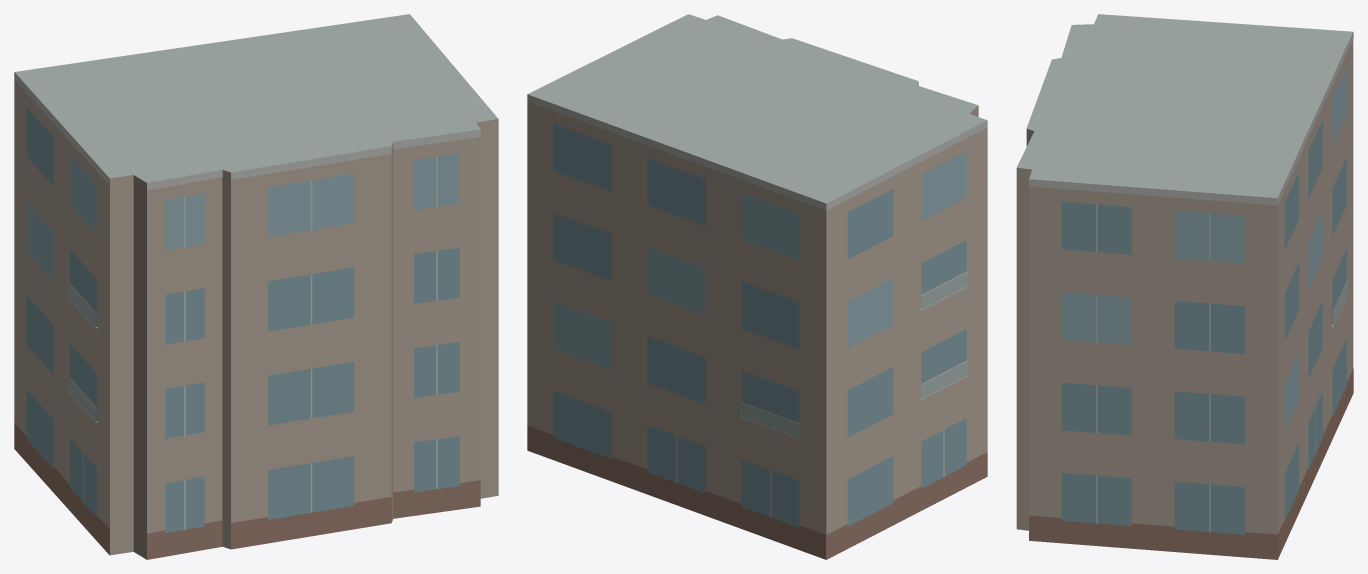
Rendered from survey-upis-32921223.glb.
3 views of the same model, side by side, from view 1: azimuth 30°, elevation 25°; view 2: azimuth 150°, elevation 25°; view 3: azimuth 270°, elevation 25° (orthographic). The views are drawn at different scales.
Visible parts, largest first — view 1: survey-upis-32921223.tmp; view 2: survey-upis-32921223.tmp; view 3: survey-upis-32921223.tmp.
Part boxes in pixels (left/top/right/bottom): survey-upis-32921223.tmp: left=14, top=14, right=498, bottom=559; survey-upis-32921223.tmp: left=527, top=14, right=987, bottom=559; survey-upis-32921223.tmp: left=1016, top=14, right=1353, bottom=559.
Bounding box in the file's own units: 13.34 × 12.2 × 10.31.
